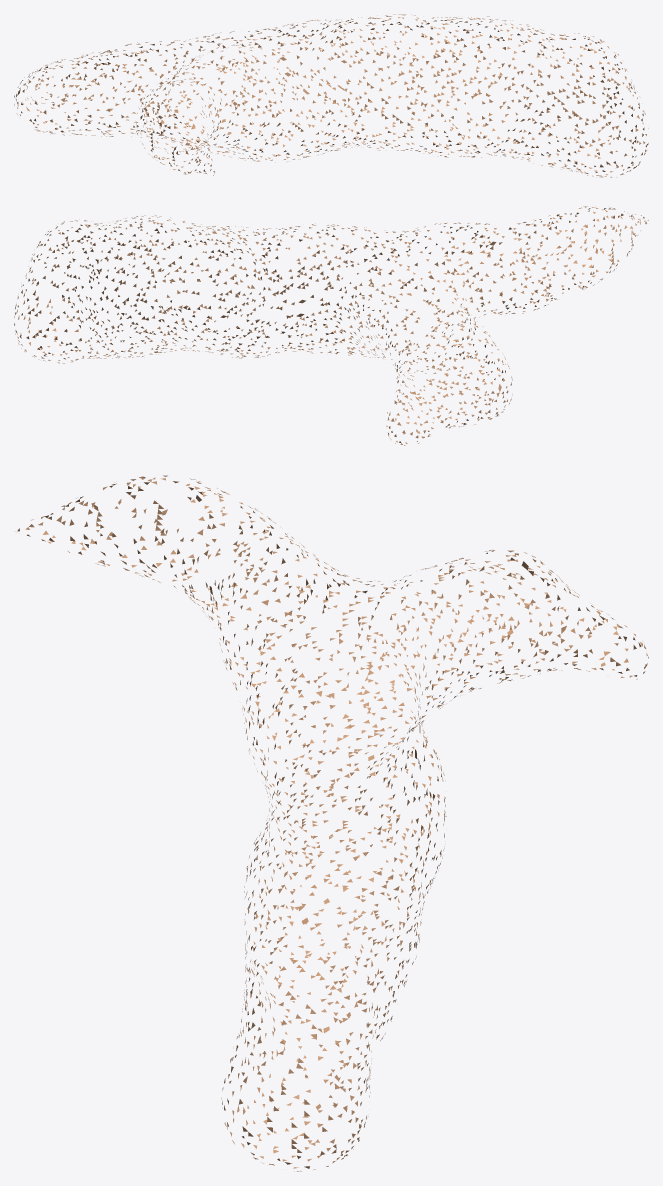
File: morph_005.glb
3 views of the same model, one above another, from view 1: azimuth 30°, elevation 25°; view 2: azimuth 150°, elevation 25°; view 3: azimuth 270°, elevation 25° (orthographic). The views are drawn at different scales.
Size of the model in its own units: 111 by 44.3 by 74.57.
